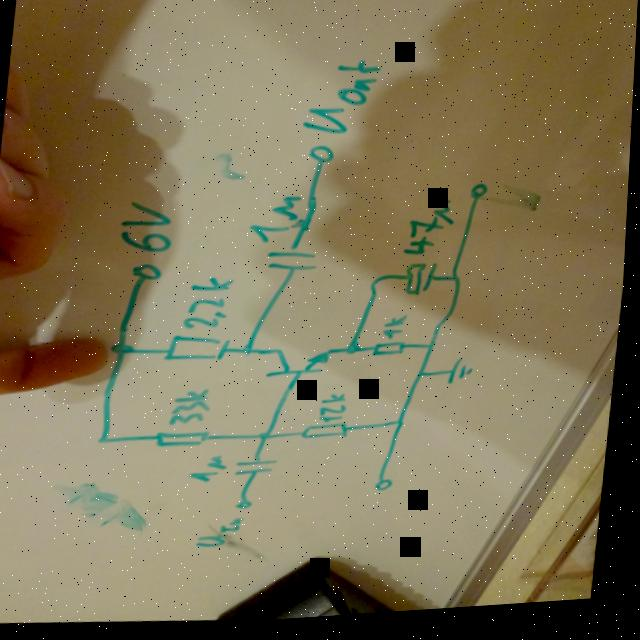capacitor: (262, 245, 323, 284), (400, 263, 446, 305), (234, 452, 286, 487)
ground: (443, 360, 485, 394)
junction: (111, 339, 140, 360), (344, 345, 366, 362), (241, 346, 261, 363), (259, 434, 280, 448), (426, 344, 443, 360), (98, 435, 118, 448), (370, 277, 388, 291), (415, 373, 433, 386), (397, 422, 415, 434), (451, 279, 466, 293)
resistor: (159, 334, 240, 372), (155, 428, 222, 454), (298, 423, 360, 449), (370, 344, 416, 366)
terminal: (129, 261, 167, 290), (305, 145, 339, 175), (375, 479, 403, 500), (467, 188, 493, 210), (237, 500, 263, 516)
text: (296, 58, 389, 145), (116, 198, 186, 259), (181, 274, 243, 338), (402, 200, 462, 266), (247, 194, 304, 251), (168, 386, 220, 435), (197, 516, 252, 555), (188, 454, 235, 492), (318, 394, 355, 430), (382, 316, 415, 348)
transistor: (264, 339, 341, 392)
